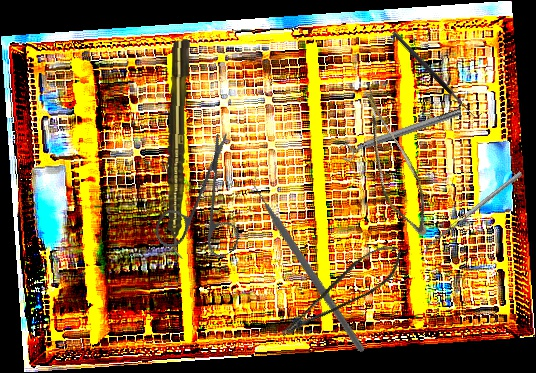Chopper: (204, 167, 416, 353)
Fixation Ring: (338, 103, 464, 163)
Handpiece: (163, 37, 192, 260)
Hook Surgical: (391, 26, 483, 121)
Iris Scissors: (126, 129, 282, 282)
Micro Scissor: (329, 83, 453, 242), (267, 237, 412, 342)
Spatula Surgical: (421, 171, 526, 255)
